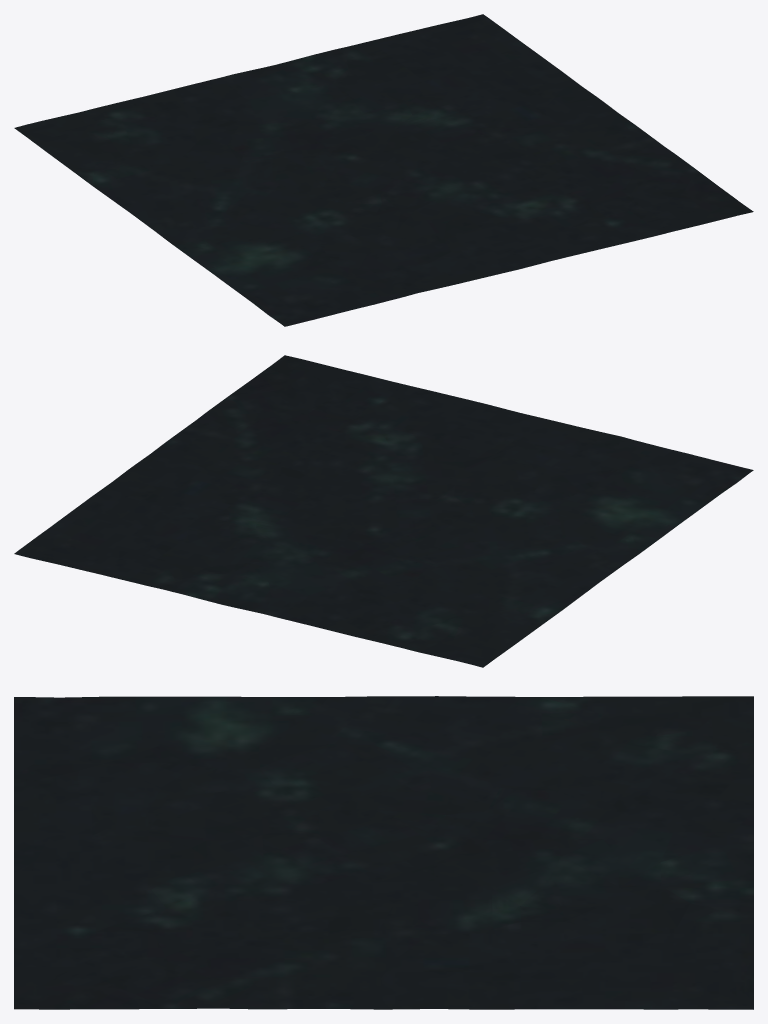
3 views of the same model, one above another, from view 1: azimuth 30°, elevation 25°; view 2: azimuth 150°, elevation 25°; view 3: azimuth 270°, elevation 25° (orthographic). The views are drawn at different scales.
Size of the model in its own units: 52.22 by 0.1887 by 52.22.
2 materials, 2 textured.
